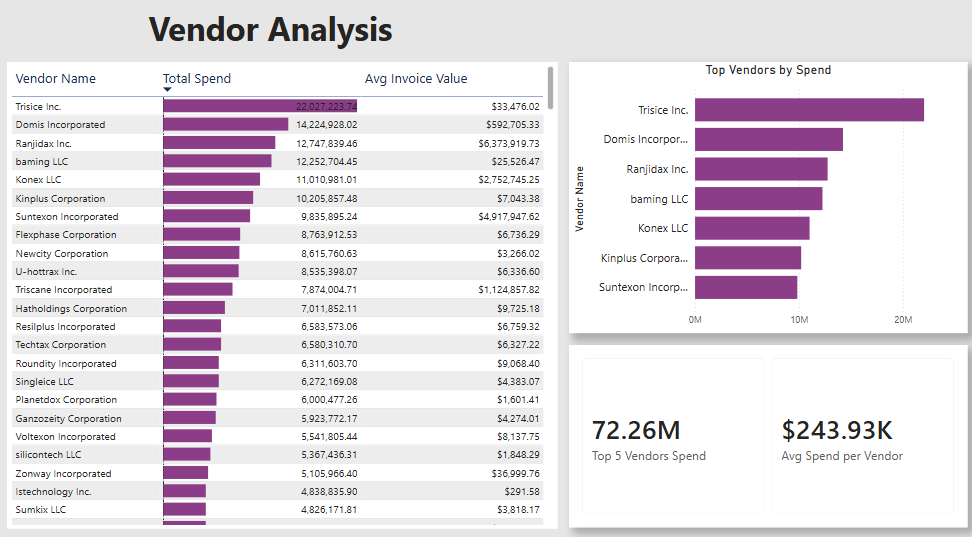

Layout of this report page (visuals, bound fields, positions):
{"tool":"powerbi","page":{"name":"Vendor Analysis","canvas":[1280,720],"ordinal":1},"visuals":[{"type":"tableEx","fields":{"Values":["Vendor.Vendor Name","Invoice Line Item.Total_Spend_USD","Invoice Line Item.AVG_Invoice_Value"]},"box":[11.7,96.8,720.9,610.8],"z":0},{"type":"clusteredBarChart","title":"Top Vendors by Spend","fields":{"Category":["Vendor.Vendor Name"],"Y":["Invoice Line Item.Top_Vendor_Spend"]},"box":[747.6,96.8,522.3,355.5],"z":1000},{"type":"textbox","box":[0,18.5,713.2,107.8],"z":2000},{"type":"cardVisual","fields":{"Data":["Invoice Line Item.Top5_Vedor_Spend","Invoice Line Item.Avg_Spend_Per_Vendor"]},"box":[747.6,467.3,522.3,238.6],"z":3000}]}

Visuals, with their boxes in screenshot pixels (x1, y1, x2, y2), scaled from the page's 1280x720 canvas onto the 972x537 screenshot:
tableEx - Vendor.Vendor Name x Invoice Line Item.Total_Spend_USD: <bbox>9, 72, 556, 528</bbox>
"Top Vendors by Spend" clusteredBarChart: <bbox>568, 72, 964, 337</bbox>
textbox: <bbox>0, 14, 542, 94</bbox>
cardVisual - Invoice Line Item.Top5_Vedor_Spend x Invoice Line Item.Avg_Spend_Per_Vendor: <bbox>568, 349, 964, 526</bbox>
